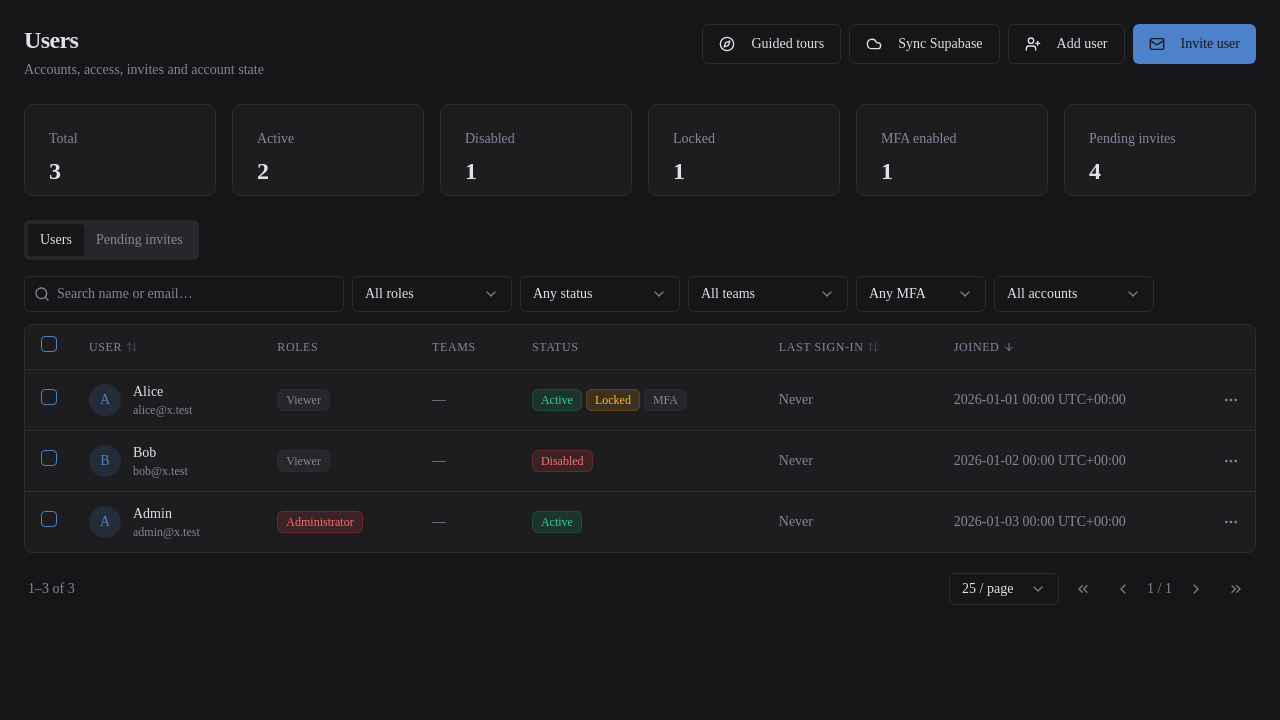
Test: Users admin page: actions › disables with a required reason
expect the text "alice@x.test" is shown: met, box left=133, top=402, right=192, bottom=418
Step 1. Press . in the row that starts with "Alice", box left=25, top=369, right=1255, bottom=430
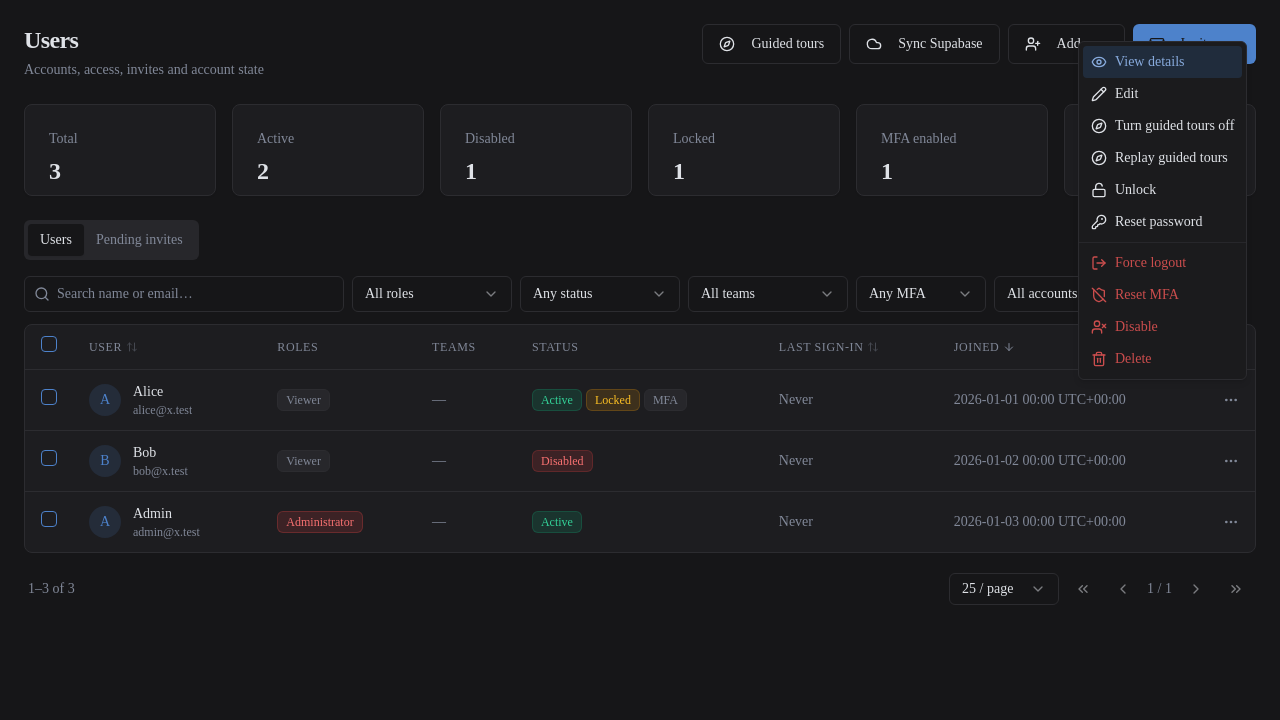
Step 2. Click the menu item "Disable" → (1124, 327), box left=1091, top=319, right=1158, bottom=335
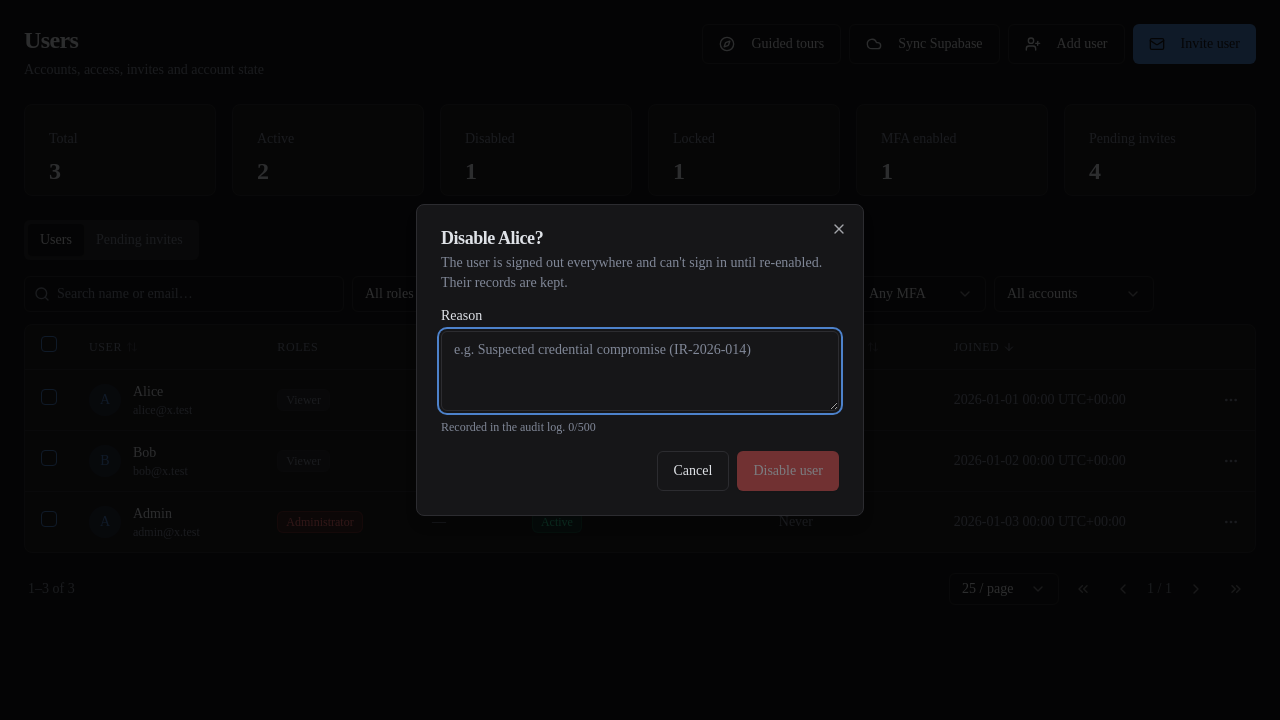
expect the button "Disable user" is disabled: met, box left=737, top=451, right=839, bottom=491
Step 3. Type "  Compromised laptop  " into the text box labelled "Reason" → (640, 371), box left=441, top=331, right=839, bottom=411
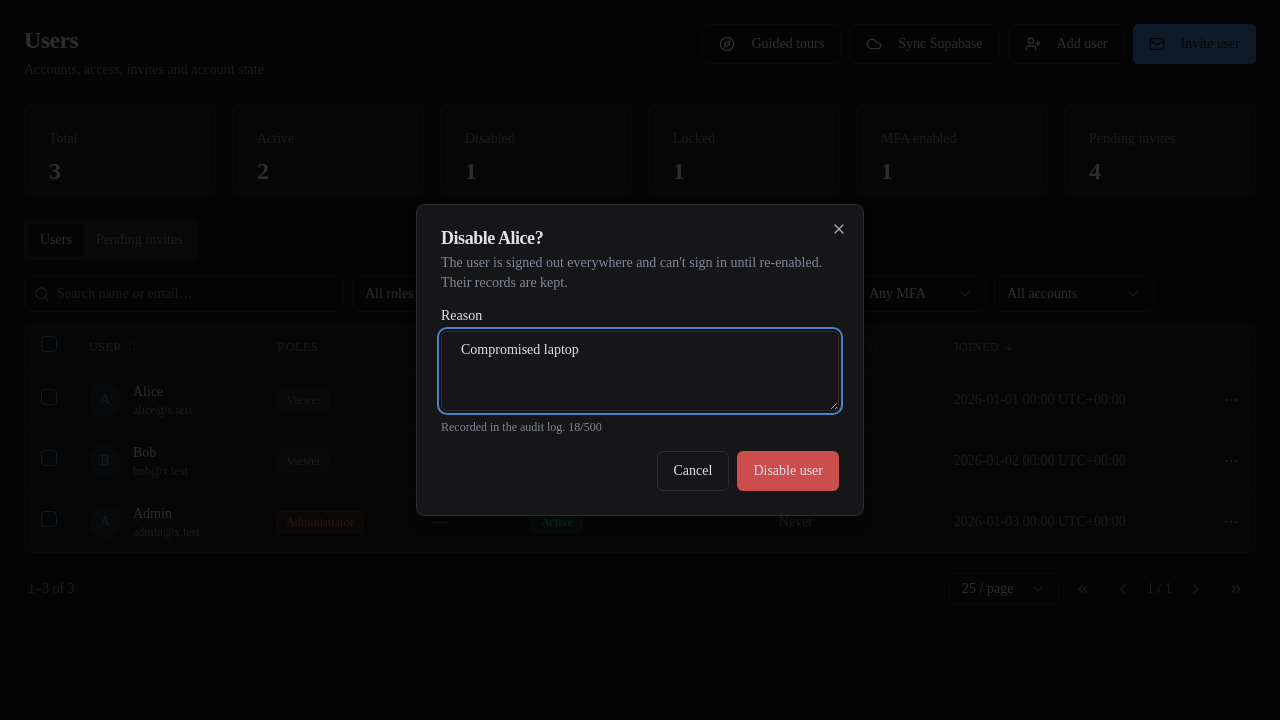
Step 4. Click the button "Disable user" → (788, 471), box left=737, top=451, right=839, bottom=491
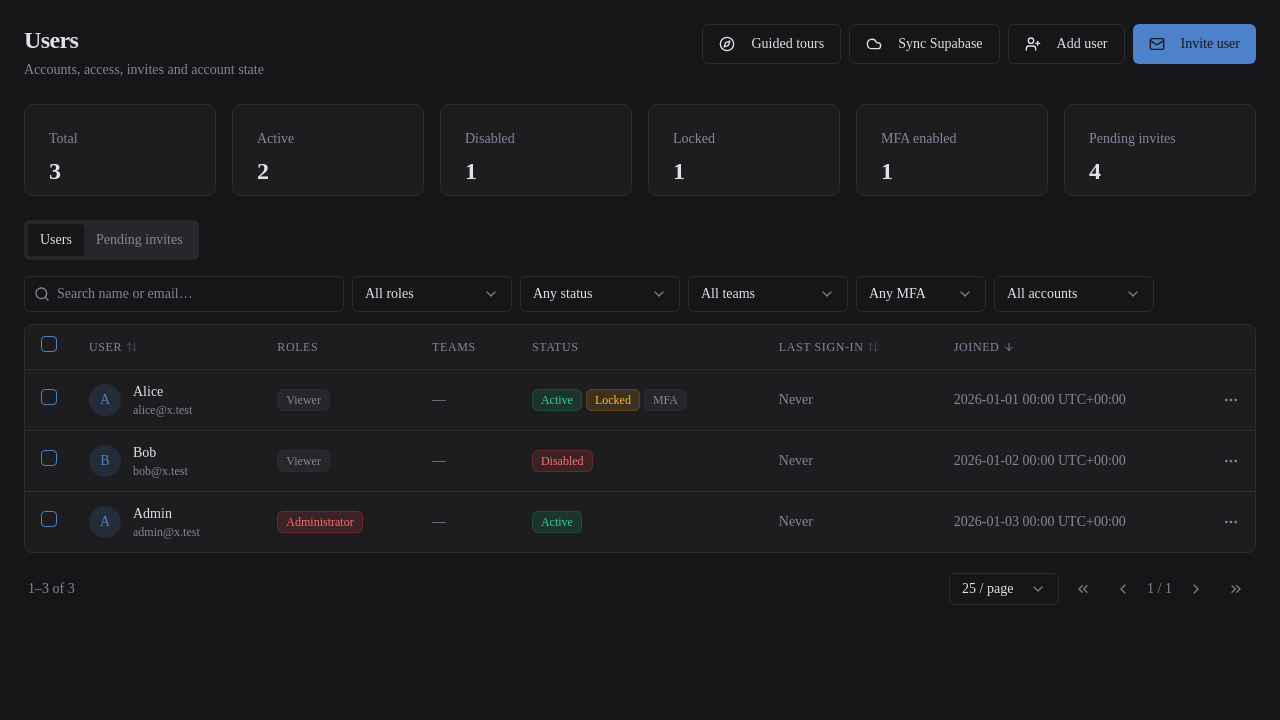
expect the dialog is gone: met
